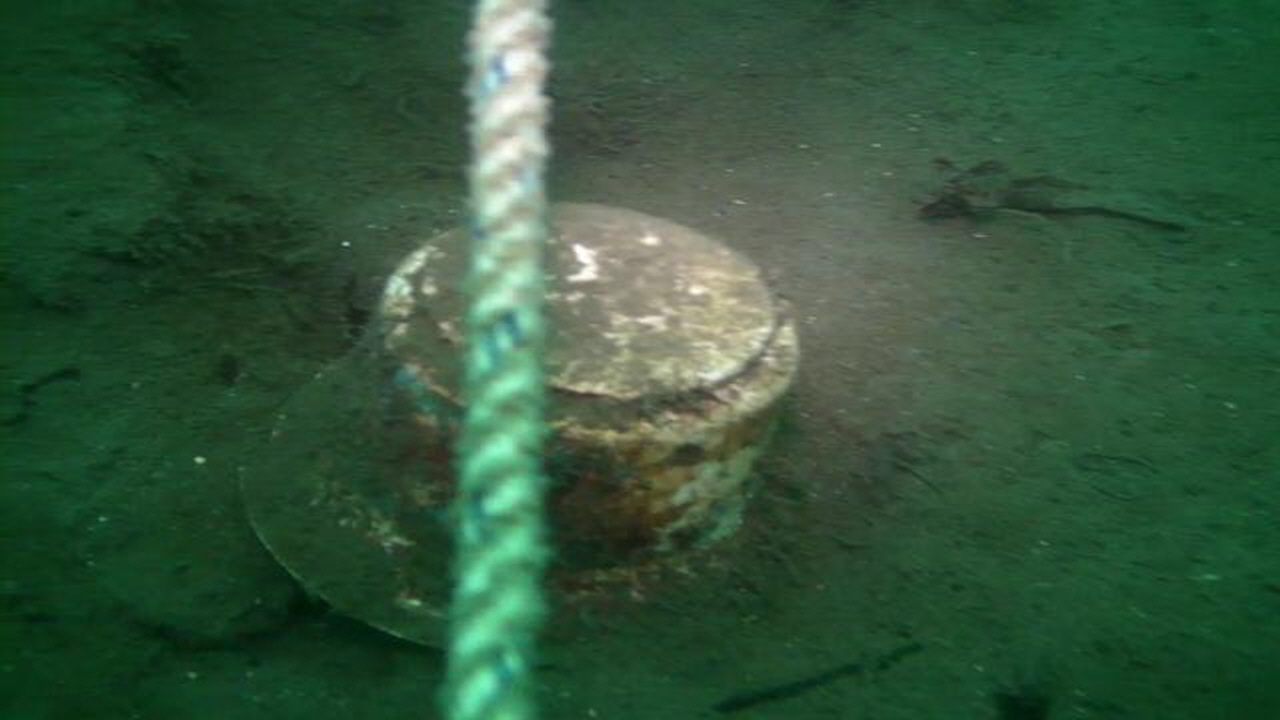rope: (443, 0, 556, 720)
